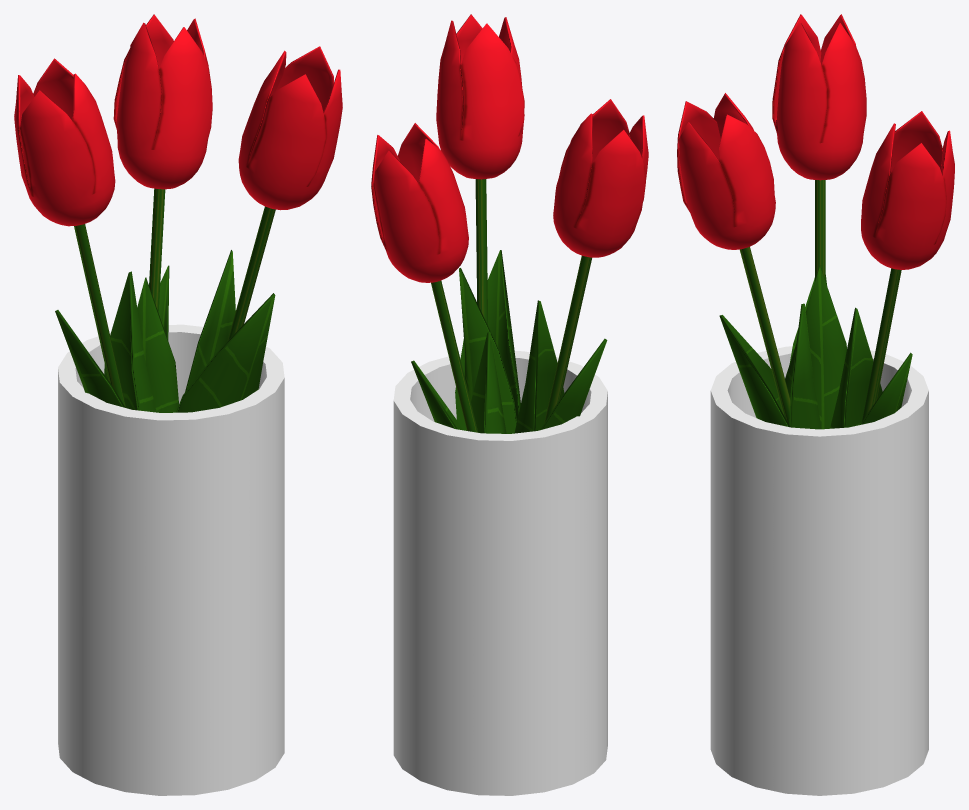
File: flowers.fbx
The picture shows the model from 3 angles, left to right: view 1: azimuth 30°, elevation 25°; view 2: azimuth 150°, elevation 25°; view 3: azimuth 270°, elevation 25°; orthographic projection. The views are drawn at different scales.
Visible parts, largest first — view 1: polySurface5; view 2: polySurface5; view 3: polySurface5.
Boxes of the visible parts, <box> form: polySurface5: <box>14,14,342,795</box>; polySurface5: <box>371,14,648,795</box>; polySurface5: <box>677,14,954,795</box>.
Size of the model in its own units: 6.14 by 15.77 by 5.78.
2 materials, 2 textured.
